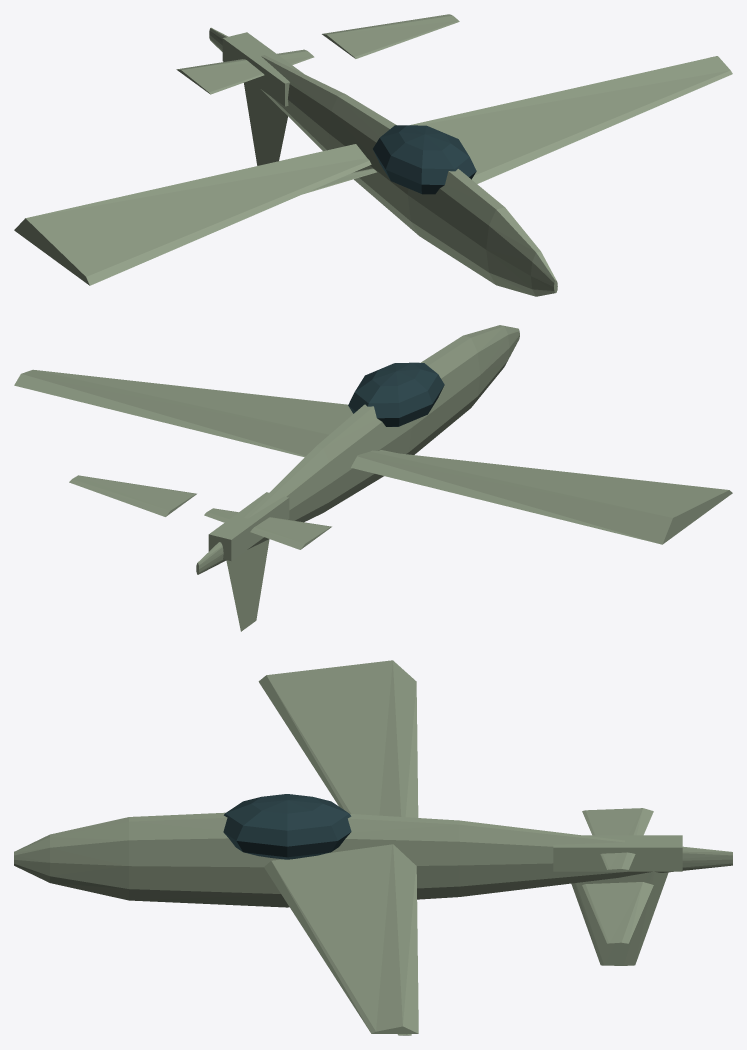
The model's file is spitfire.glb.
3 renders of one model, top to bottom at view 1: azimuth 30°, elevation 25°; view 2: azimuth 150°, elevation 25°; view 3: azimuth 270°, elevation 25°, orthographic. The views are drawn at different scales.
Visible parts, largest first — view 1: Wing_L, Fuselage, Wing_R, Cockpit, Elevator_R, Rudder, TailBoom, Elevator_L; view 2: Wing_L, Fuselage, Wing_R, Cockpit, TailBoom, Rudder, Elevator_R, Elevator_L; view 3: Fuselage, Wing_R, Wing_L, Cockpit, TailBoom, Rudder, Elevator_R, Elevator_L.
Boxes of the visible parts, box(x1,y1,x2,y2) form: Wing_L: box(14, 144, 371, 285); Fuselage: box(209, 27, 557, 296); Wing_R: box(410, 56, 732, 183); Cockpit: box(373, 125, 476, 194); Elevator_R: box(322, 14, 459, 58); Rudder: box(244, 80, 287, 165); TailBoom: box(222, 32, 303, 106); Elevator_L: box(176, 49, 314, 94); Wing_L: box(351, 450, 732, 544); Fuselage: box(196, 325, 519, 574); Wing_R: box(14, 369, 352, 457); Cockpit: box(348, 362, 444, 426); TailBoom: box(208, 492, 289, 561); Rudder: box(226, 539, 269, 631); Elevator_R: box(69, 475, 196, 516); Elevator_L: box(204, 508, 331, 549); Fuselage: box(14, 812, 732, 907); Wing_R: box(264, 844, 418, 1033); Wing_L: box(258, 660, 418, 817); Cockpit: box(223, 794, 351, 859); TailBoom: box(553, 835, 682, 871); Rudder: box(571, 871, 668, 965); Elevator_R: box(582, 882, 653, 943); Elevator_L: box(582, 808, 653, 869).
Bounding box in the file's own units: 10.85 × 2.36 × 9.3.
